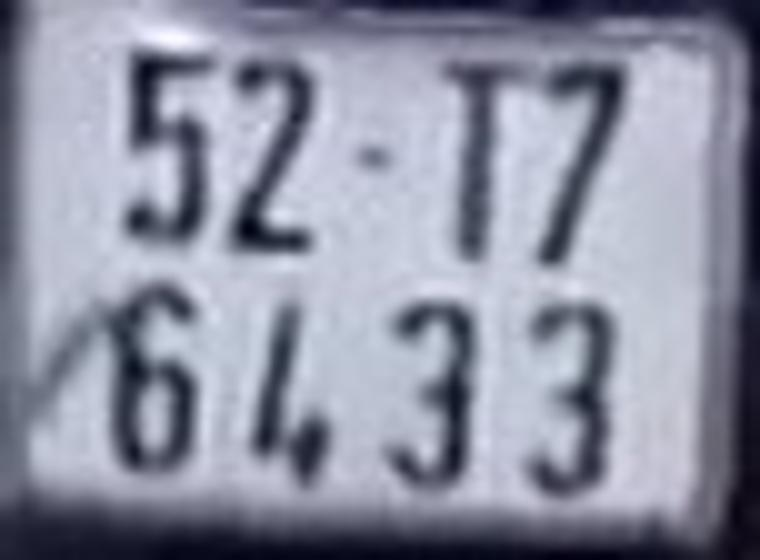-: (358, 144, 397, 168)
2: (229, 57, 310, 247)
3: (389, 294, 472, 494), (527, 305, 609, 496)
4: (251, 298, 331, 488)
5: (127, 51, 207, 237)
6: (115, 285, 196, 473)
7: (545, 60, 627, 265)
T: (443, 60, 525, 265)
